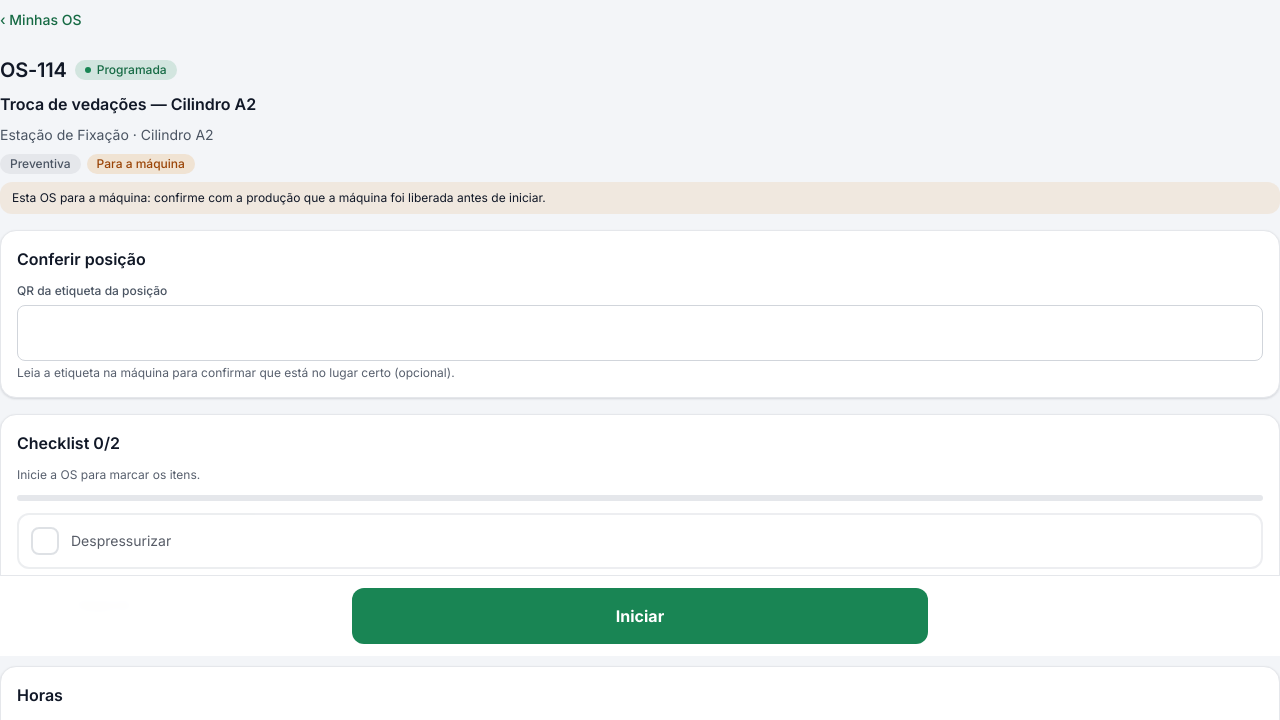
Test: technician execution › starts a scheduled WO from the thumb-zone button
This screenshot has width=1280, height=720.
Click the button "Iniciar" at (640, 616), box [352,588,928,644]
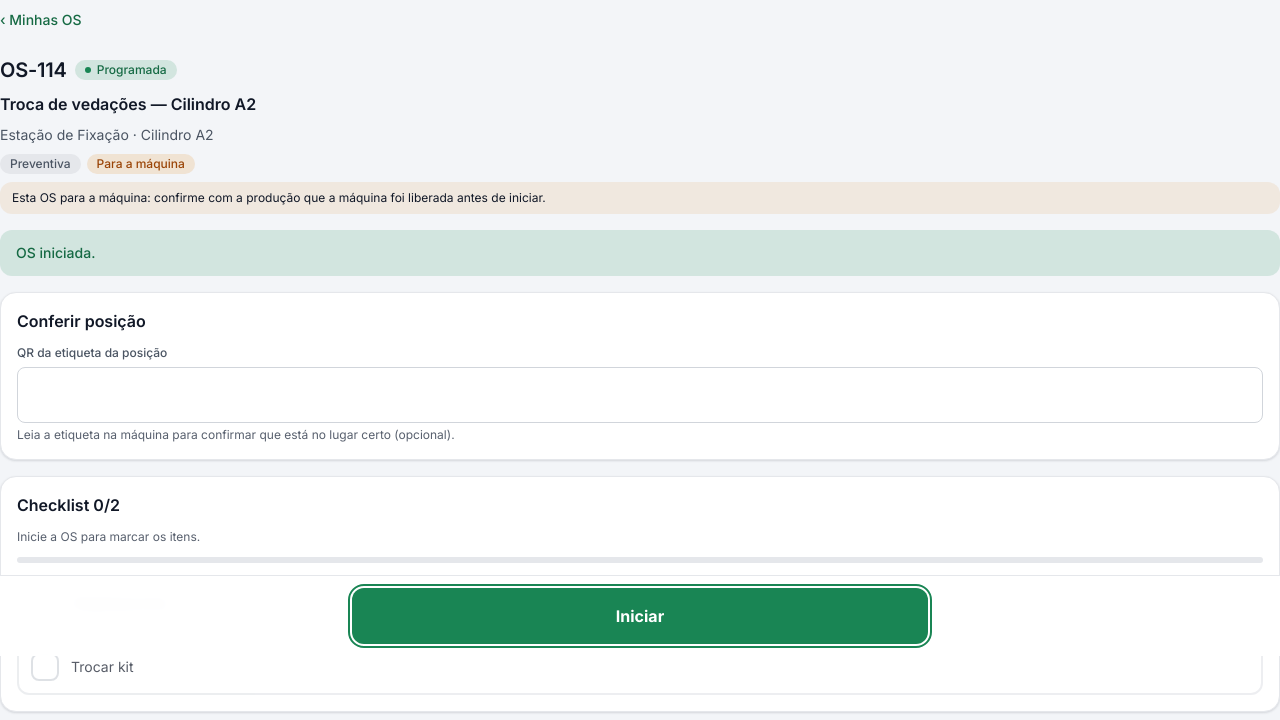
Expected: the text "OS iniciada." is shown, [0,230,1279,276]
